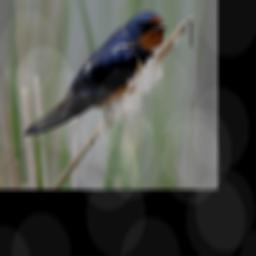Swallow: (23, 10, 169, 136)
